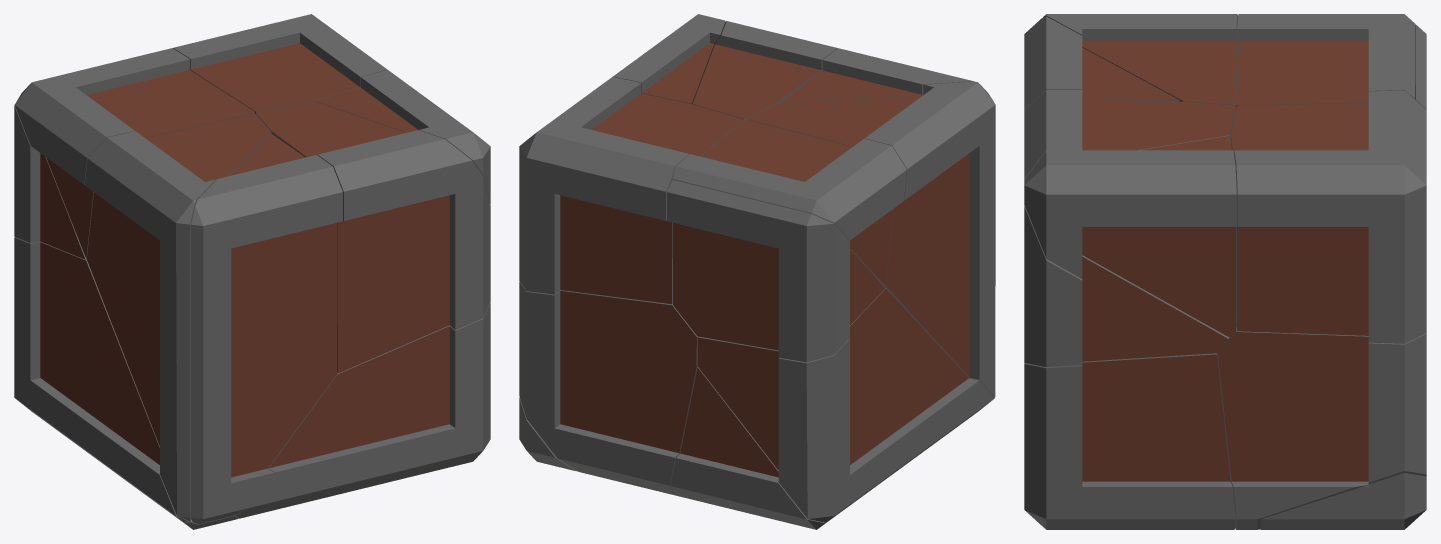
File: crate_fractured.glb
The picture shows the model from 3 angles, left to right: view 1: azimuth 30°, elevation 25°; view 2: azimuth 150°, elevation 25°; view 3: azimuth 270°, elevation 25°; orthographic projection. The views are drawn at different scales.
Parts seen in each view (by area): view 1: Cratecol_cell.002, Cratecol_cell.007, Cratecol_cell, Cratecol_cell.006, Cratecol_cell.004, Cratecol_cell.009, Cratecol_cell.003, Cratecol_cell.008, Cratecol_cell.001; view 2: Cratecol_cell.004, Cratecol_cell.003, Cratecol_cell, Cratecol_cell.011, Cratecol_cell.001, Cratecol_cell.009, Cratecol_cell.005, Cratecol_cell.007, Cratecol_cell.002, Cratecol_cell.008, Cratecol_cell.010; view 3: Cratecol_cell.003, Cratecol_cell.006, Cratecol_cell.011, Cratecol_cell.008, Cratecol_cell.007, Cratecol_cell.009, Cratecol_cell, Cratecol_cell.002, Cratecol_cell.010, Cratecol_cell.001.
Boxes of the visible parts, left/top/right/bottom form: Cratecol_cell.002: left=190, top=133, right=342, bottom=524; Cratecol_cell.007: left=256, top=101, right=490, bottom=373; Cratecol_cell: left=84, top=114, right=271, bottom=520; Cratecol_cell.006: left=235, top=303, right=490, bottom=518; Cratecol_cell.004: left=14, top=237, right=187, bottom=522; Cratecol_cell.009: left=14, top=48, right=254, bottom=258; Cratecol_cell.003: left=173, top=14, right=387, bottom=113; Cratecol_cell.008: left=314, top=70, right=490, bottom=203; Cratecol_cell.001: left=14, top=89, right=86, bottom=259; Cratecol_cell.004: left=697, top=288, right=994, bottom=522; Cratecol_cell.003: left=519, top=77, right=743, bottom=304; Cratecol_cell: left=748, top=81, right=995, bottom=396; Cratecol_cell.011: left=519, top=281, right=697, bottom=494; Cratecol_cell.001: left=667, top=180, right=884, bottom=362; Cratecol_cell.009: left=673, top=119, right=906, bottom=286; Cratecol_cell.005: left=670, top=367, right=983, bottom=529; Cratecol_cell.007: left=692, top=21, right=837, bottom=119; Cratecol_cell.002: left=780, top=48, right=990, bottom=103; Cratecol_cell.008: left=613, top=14, right=725, bottom=103; Cratecol_cell.010: left=519, top=397, right=576, bottom=471; Cratecol_cell.003: left=1231, top=90, right=1426, bottom=343; Cratecol_cell.006: left=1024, top=353, right=1235, bottom=529; Cratecol_cell.011: left=1216, top=323, right=1426, bottom=529; Cratecol_cell.008: left=1024, top=135, right=1236, bottom=337; Cratecol_cell.007: left=1024, top=90, right=1236, bottom=367; Cratecol_cell.009: left=1235, top=14, right=1415, bottom=108; Cratecol_cell: left=1043, top=14, right=1239, bottom=105; Cratecol_cell.002: left=1024, top=16, right=1179, bottom=109; Cratecol_cell.010: left=1260, top=473, right=1426, bottom=529; Cratecol_cell.001: left=1415, top=24, right=1426, bottom=109.
Size of the model in its own units: 0.7316 by 0.7316 by 0.7316.
